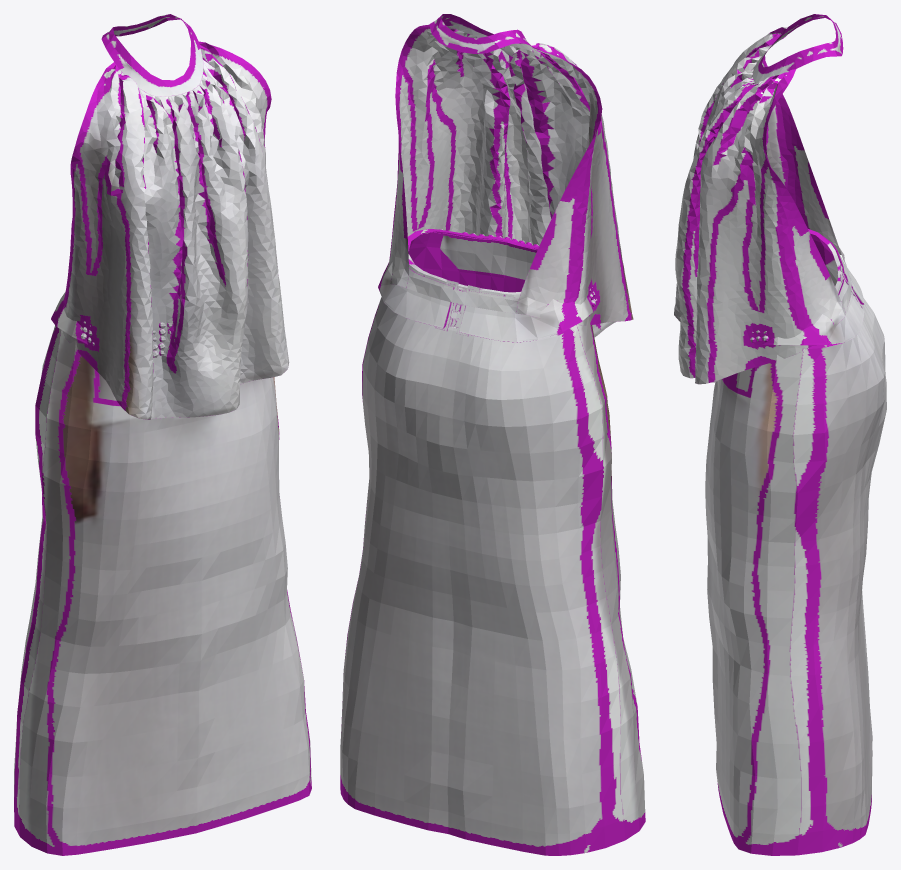
3 views of the same model, side by side, from view 1: azimuth 30°, elevation 25°; view 2: azimuth 150°, elevation 25°; view 3: azimuth 270°, elevation 25° (orthographic). The views are drawn at different scales.
Size of the model in its own units: 0.3206 by 0.8645 by 0.2188.
Materials: 1 (1 with a texture image).
